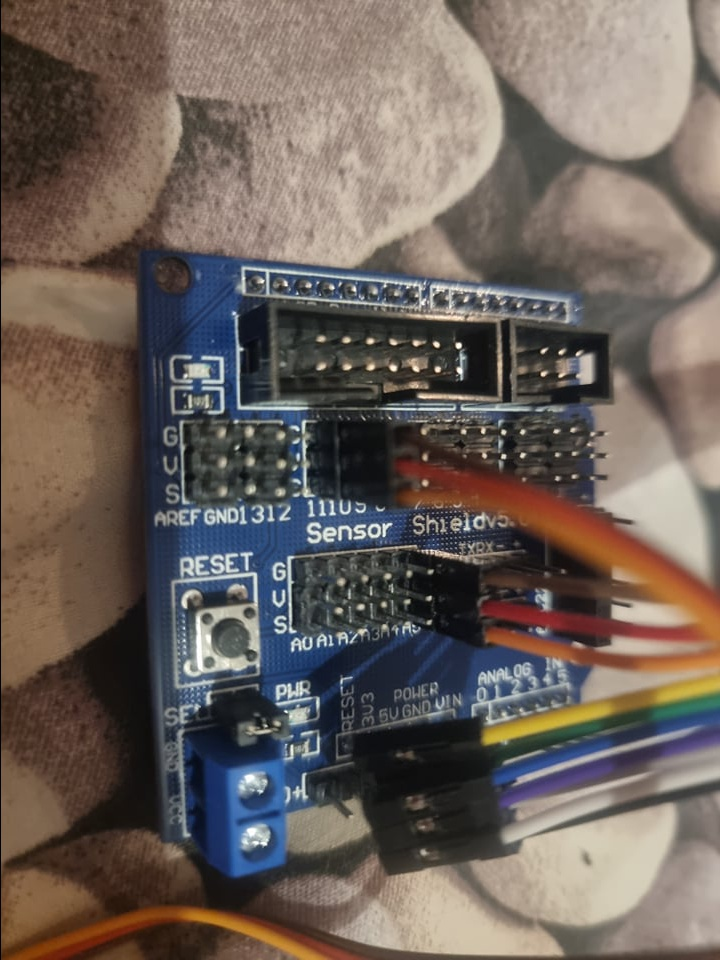5V EXPANSION: (136, 248, 620, 880)
